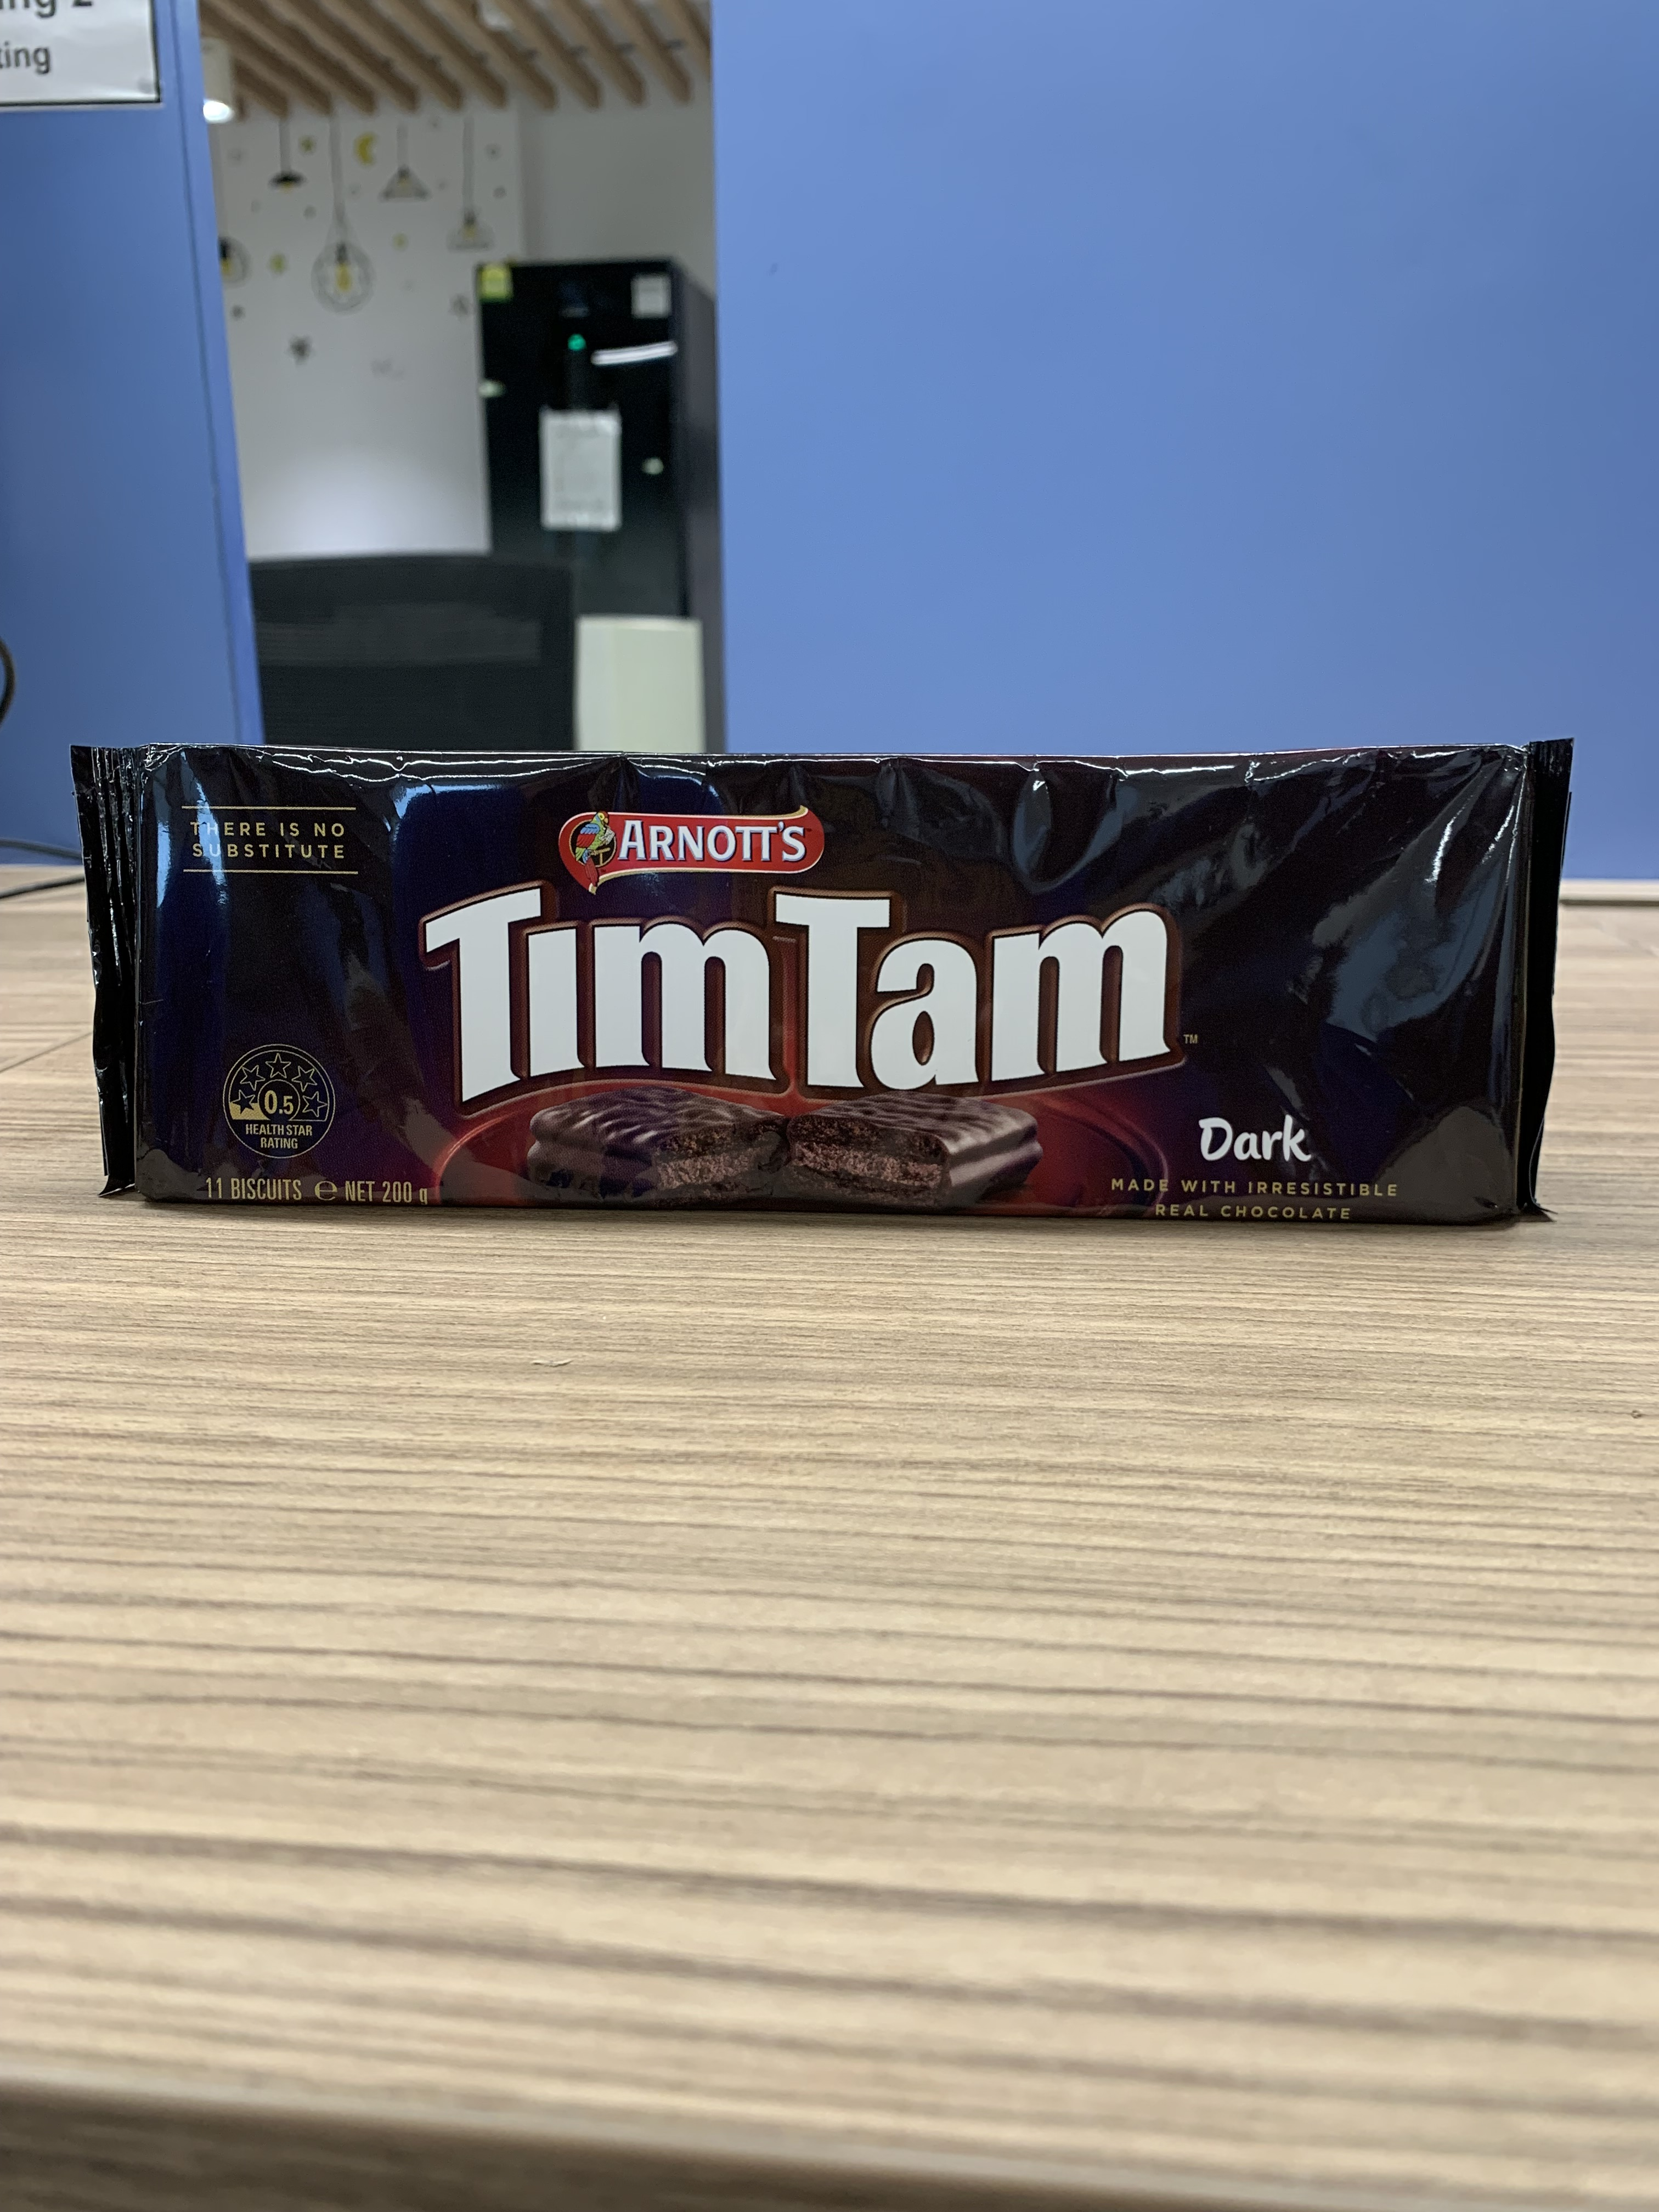cookies_200g-299g: (129, 752, 1500, 1247)
